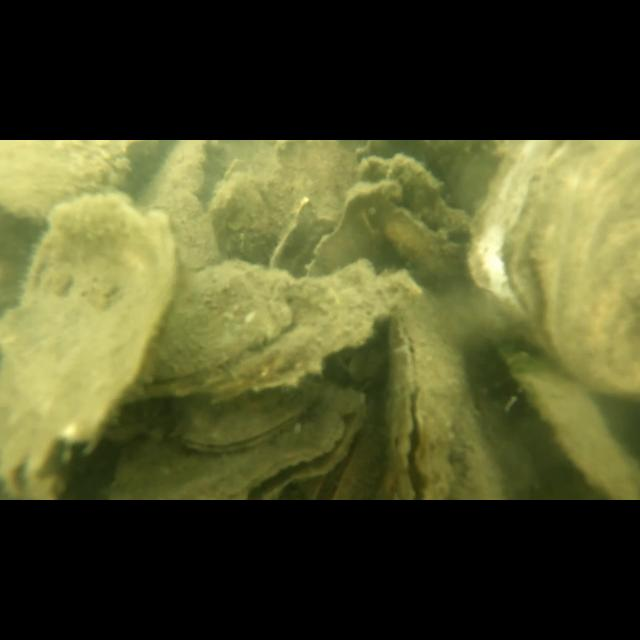Oyster-Closed: (0, 190, 180, 500), (129, 259, 413, 395), (498, 140, 640, 398), (502, 344, 640, 500), (208, 162, 280, 266)
Oyster-Open: (106, 388, 364, 500), (382, 294, 508, 500), (310, 152, 472, 296), (168, 382, 320, 454), (272, 200, 331, 276)
